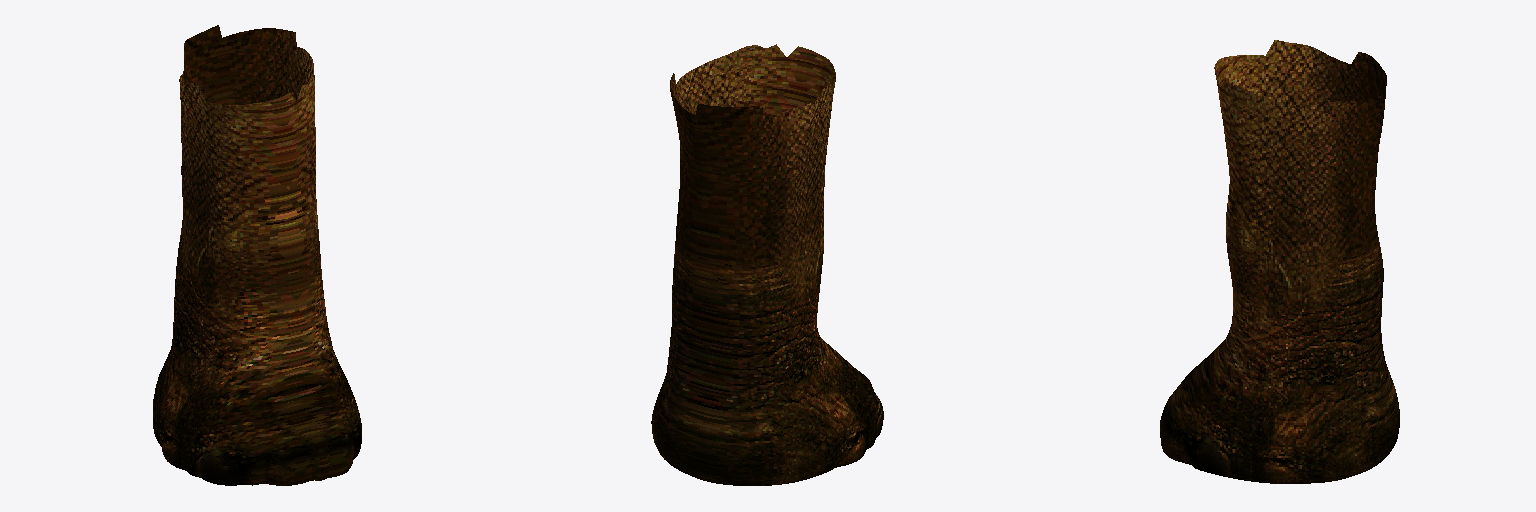
The picture shows the model from 3 angles: view 1: azimuth 30°, elevation 25°; view 2: azimuth 150°, elevation 25°; view 3: azimuth 270°, elevation 25°; orthographic projection.
Parts seen in each view (by area): view 1: ele_lower_front_right; view 2: ele_lower_front_right; view 3: ele_lower_front_right.
Part boxes in pixels (bbox=[...]): ele_lower_front_right: bbox=[153, 25, 361, 485]; ele_lower_front_right: bbox=[651, 44, 883, 485]; ele_lower_front_right: bbox=[1160, 40, 1399, 483].
Size of the model in its own units: 1079 by 2124 by 1230.
Materials: 1 (1 with a texture image).